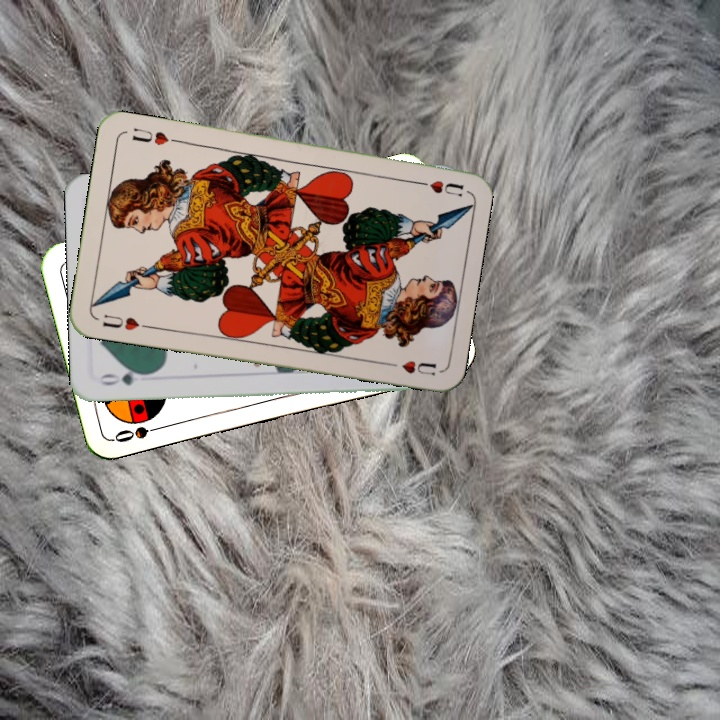GO: (96, 365, 154, 388)
HU: (408, 176, 466, 199), (98, 310, 152, 333)
SO: (110, 421, 169, 445)
